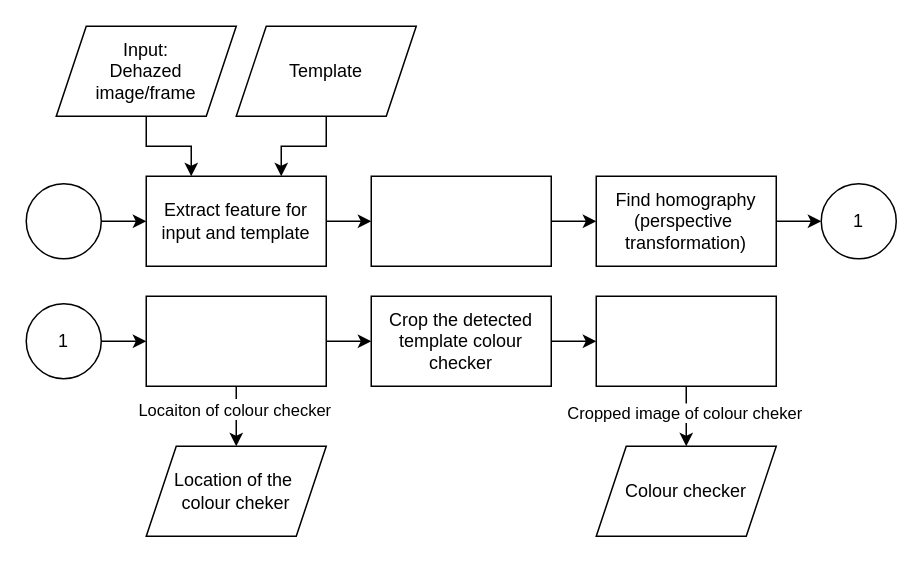
Some shapes in this 923 by 563 pixel diagram are drawn without their labels. The box of each missing label's shape, as (x1, y1, x2, y2) in pixels:
Crop the colour checker area: (595, 295, 776, 386)
Define corners of the detected colour checker: (145, 295, 326, 386)
Match features from input with template using KNN to the best 25% of results: (370, 175, 551, 266)
Start: (25, 182, 101, 259)
